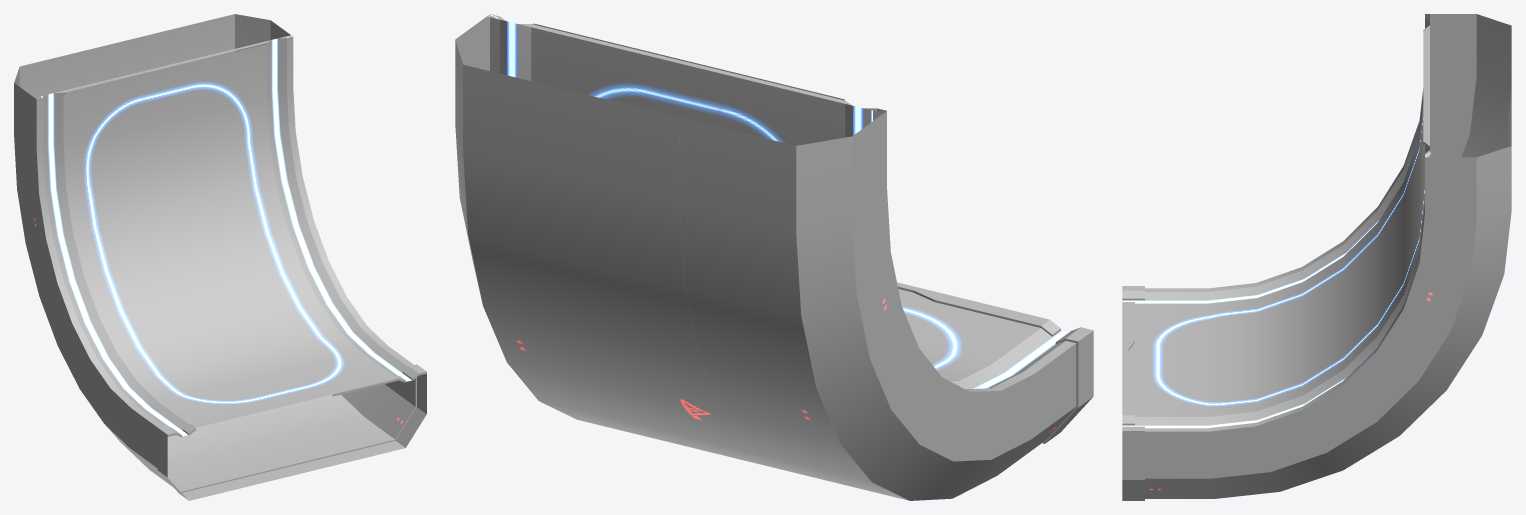
Rendered from PitchUp_NoCaps.fbx.
3 renders of one model, left to right at view 1: azimuth 30°, elevation 25°; view 2: azimuth 150°, elevation 25°; view 3: azimuth 270°, elevation 25°, orthographic. The views are drawn at different scales.
Visible parts, largest first — view 1: PitchUp_NoCaps; view 2: PitchUp_NoCaps; view 3: PitchUp_NoCaps.
Part boxes in pixels (x1=…): PitchUp_NoCaps: x1=14, y1=14, x2=426, y2=500; PitchUp_NoCaps: x1=455, y1=14, x2=1093, y2=500; PitchUp_NoCaps: x1=1122, y1=14, x2=1511, y2=500.
Bounding box in the file's own units: 2.47 × 2.83 × 2.81.
